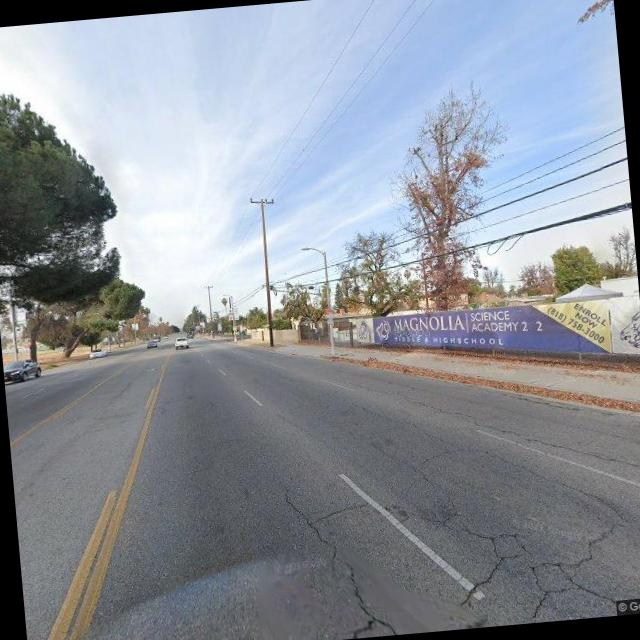crack: (270, 374, 633, 640)
pothole: (393, 372, 640, 489)
